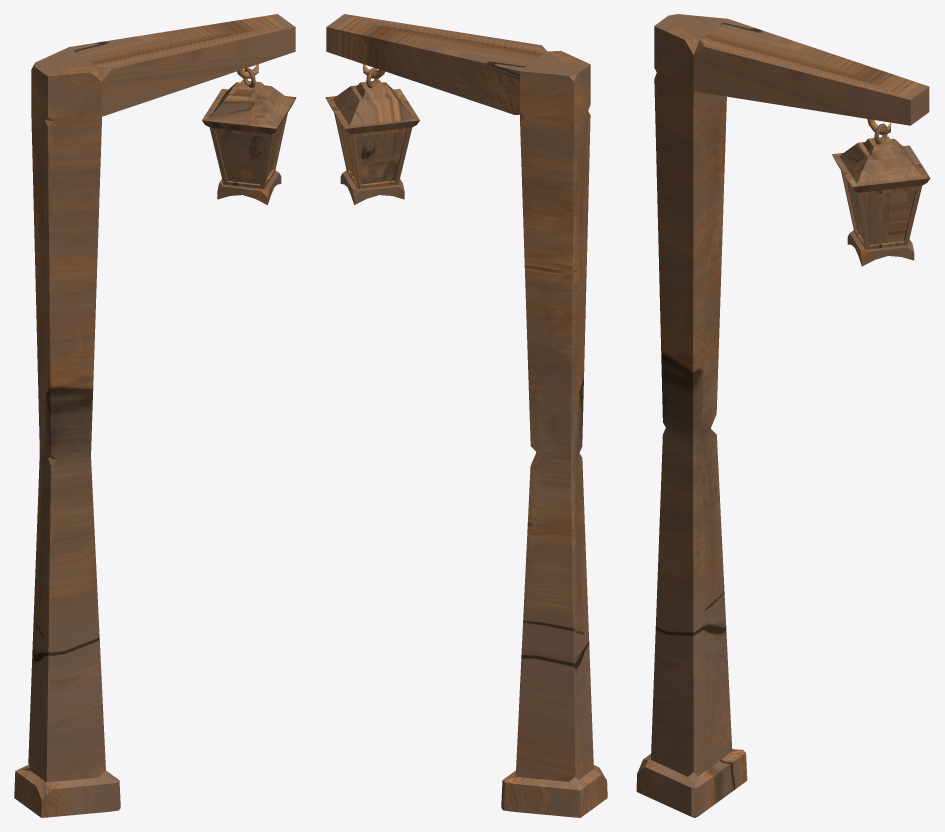
Rendered from Latern.fbx.
The picture shows the model from 3 angles, left to right: view 1: azimuth 30°, elevation 25°; view 2: azimuth 150°, elevation 25°; view 3: azimuth 330°, elevation 25°; orthographic projection. The views are drawn at different scales.
Parts seen in each view (by area): view 1: Circle.012; view 2: Circle.012; view 3: Circle.012.
Part boxes in pixels (x1,y1,x2,y2): Circle.012: (14,14,296,817); Circle.012: (325,14,607,817); Circle.012: (636,14,930,817).
Bounding box in the file's own units: 155 × 407 × 54.68.
